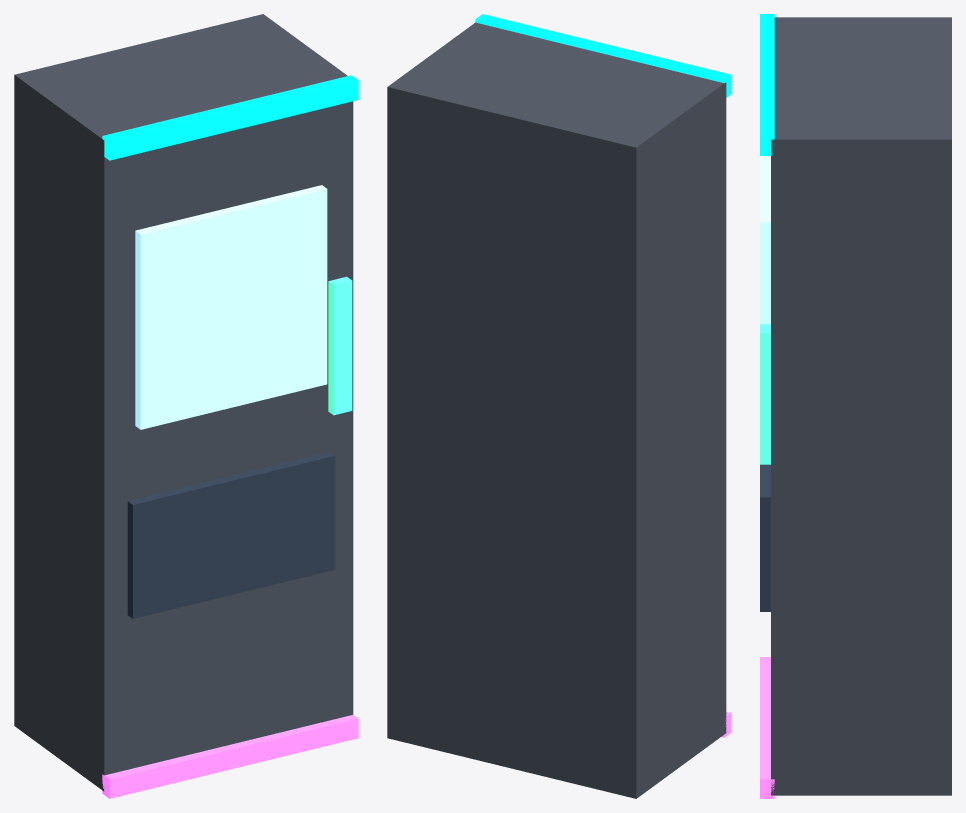
Rendered from PROP_VendingMachine_Cyber.glb.
The picture shows the model from 3 angles, left to right: view 1: azimuth 30°, elevation 25°; view 2: azimuth 150°, elevation 25°; view 3: azimuth 270°, elevation 25°; orthographic projection.
Parts seen in each view (by area): view 1: PROP_VendingMachine_Cyber; view 2: PROP_VendingMachine_Cyber; view 3: PROP_VendingMachine_Cyber.
Part boxes in pixels (x1=…): PROP_VendingMachine_Cyber: x1=14, y1=14, x2=358, y2=798; PROP_VendingMachine_Cyber: x1=387, y1=14, x2=731, y2=798; PROP_VendingMachine_Cyber: x1=760, y1=14, x2=951, y2=798.
Size of the model in its own units: 0.8 by 2.02 by 0.53.
